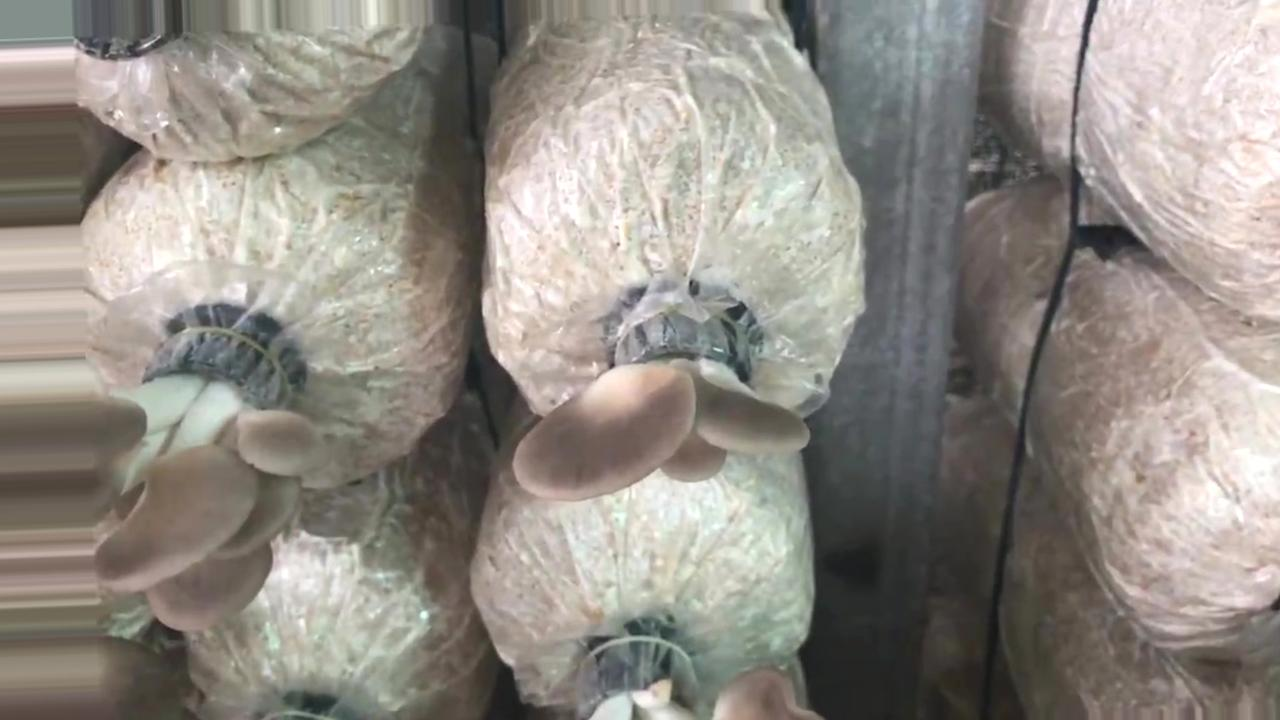nam: (1, 338, 288, 622), (539, 307, 792, 498)
